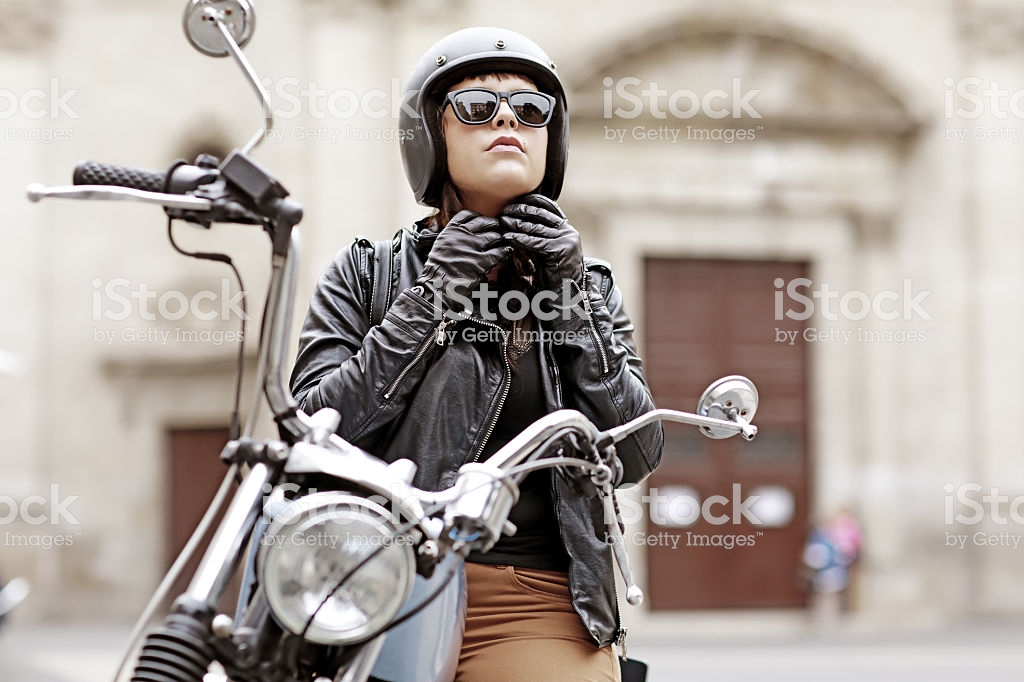helmet: (378, 36, 586, 182)
